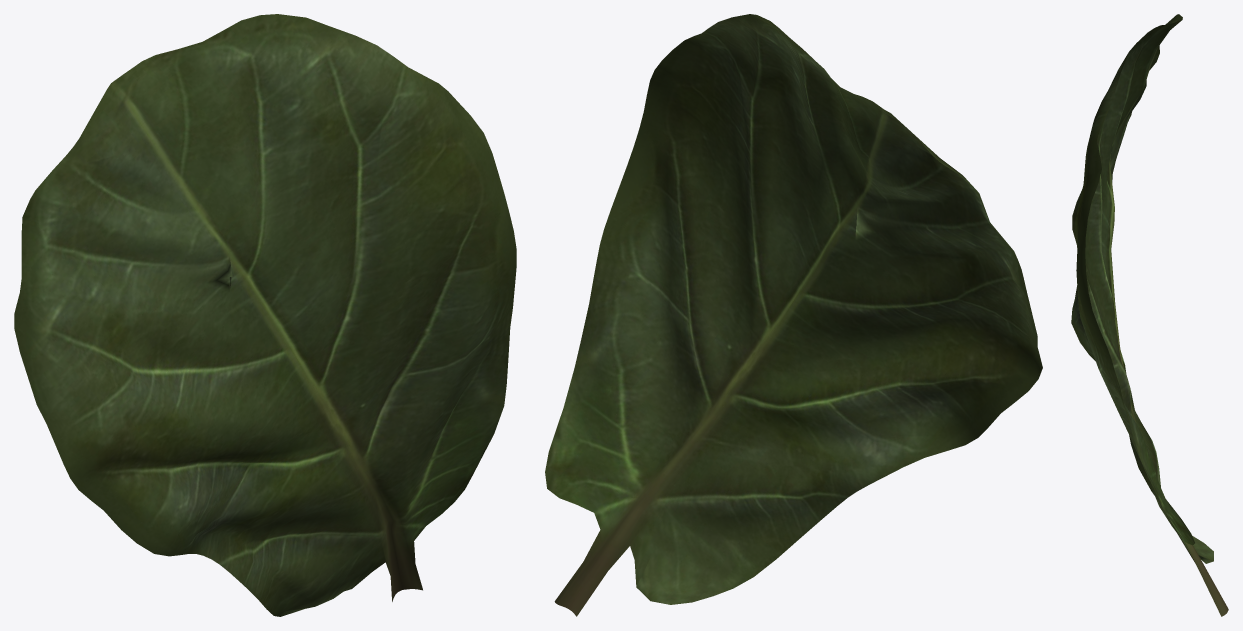
3 views of the same model, side by side, from view 1: azimuth 30°, elevation 25°; view 2: azimuth 150°, elevation 25°; view 3: azimuth 270°, elevation 25° (orthographic). The views are drawn at different scales.
Visible parts, largest first — view 1: G-Plane209 68% 68% 68% 68%.022; view 2: G-Plane209 68% 68% 68% 68%.022; view 3: G-Plane209 68% 68% 68% 68%.022.
Boxes of the visible parts, x1=… form: G-Plane209 68% 68% 68% 68%.022: x1=14, y1=14, x2=516, y2=616; G-Plane209 68% 68% 68% 68%.022: x1=545, y1=14, x2=1042, y2=616; G-Plane209 68% 68% 68% 68%.022: x1=1071, y1=14, x2=1228, y2=616.
Bounding box in the file's own units: 1.06 × 1.36 × 0.3743.
1 material, 1 textured.
